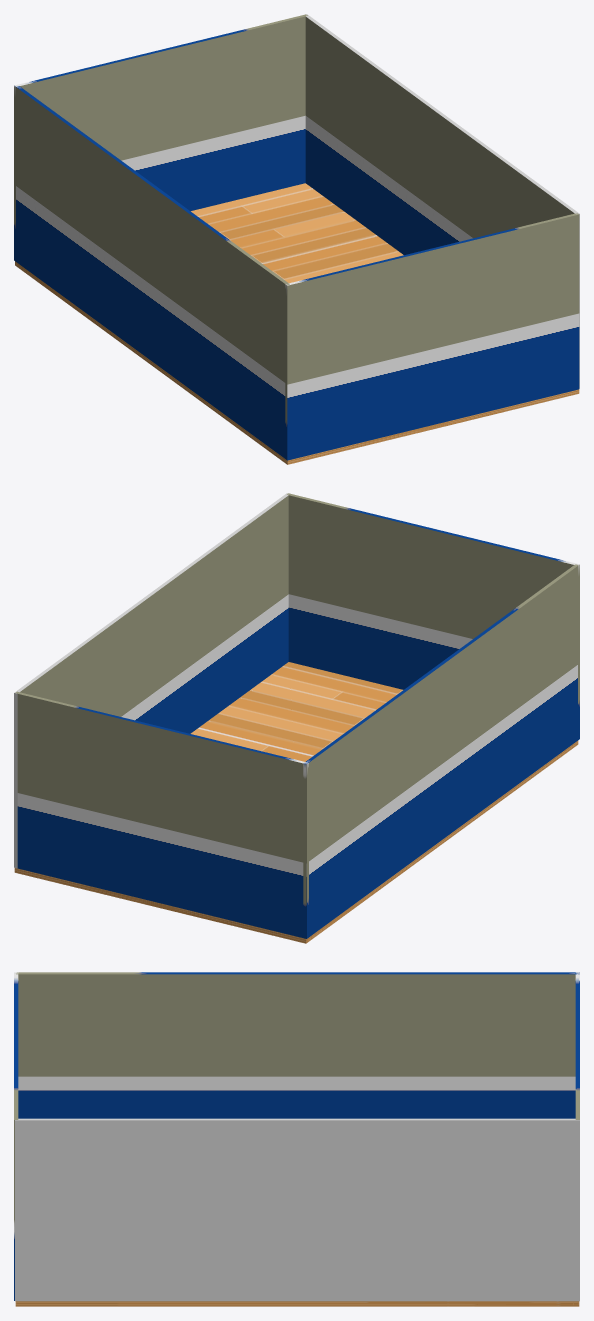
Rendered from gymnasefinal.fbx.
3 views of the same model, one above another, from view 1: azimuth 30°, elevation 25°; view 2: azimuth 150°, elevation 25°; view 3: azimuth 270°, elevation 25° (orthographic). The views are drawn at different scales.
Visible parts, largest first — view 1: pCube6; view 2: pCube6; view 3: pCube6.
Part boxes in pixels (x1,y1,x2,y2): pCube6: (14,14,579,464); pCube6: (14,493,579,943); pCube6: (14,972,579,1306).
Bounding box in the file's own units: 73.5 × 43.14 × 119.
6 materials, 5 textured.
